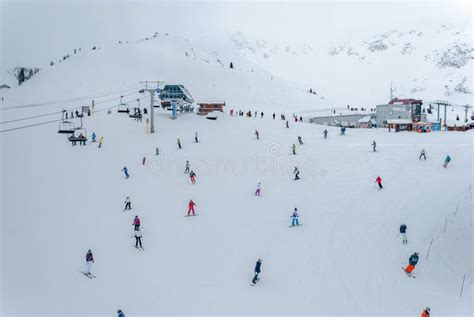skier: (77, 245, 102, 282), (391, 218, 414, 246), (126, 224, 148, 251), (400, 249, 418, 279), (369, 173, 388, 194), (118, 193, 137, 212), (127, 214, 145, 232), (414, 146, 430, 162), (367, 137, 382, 153), (187, 169, 198, 185), (182, 158, 191, 175)
snowboarder: (242, 255, 268, 287), (179, 195, 201, 222), (288, 203, 304, 231), (287, 163, 305, 183), (250, 178, 267, 199), (442, 152, 452, 172)
